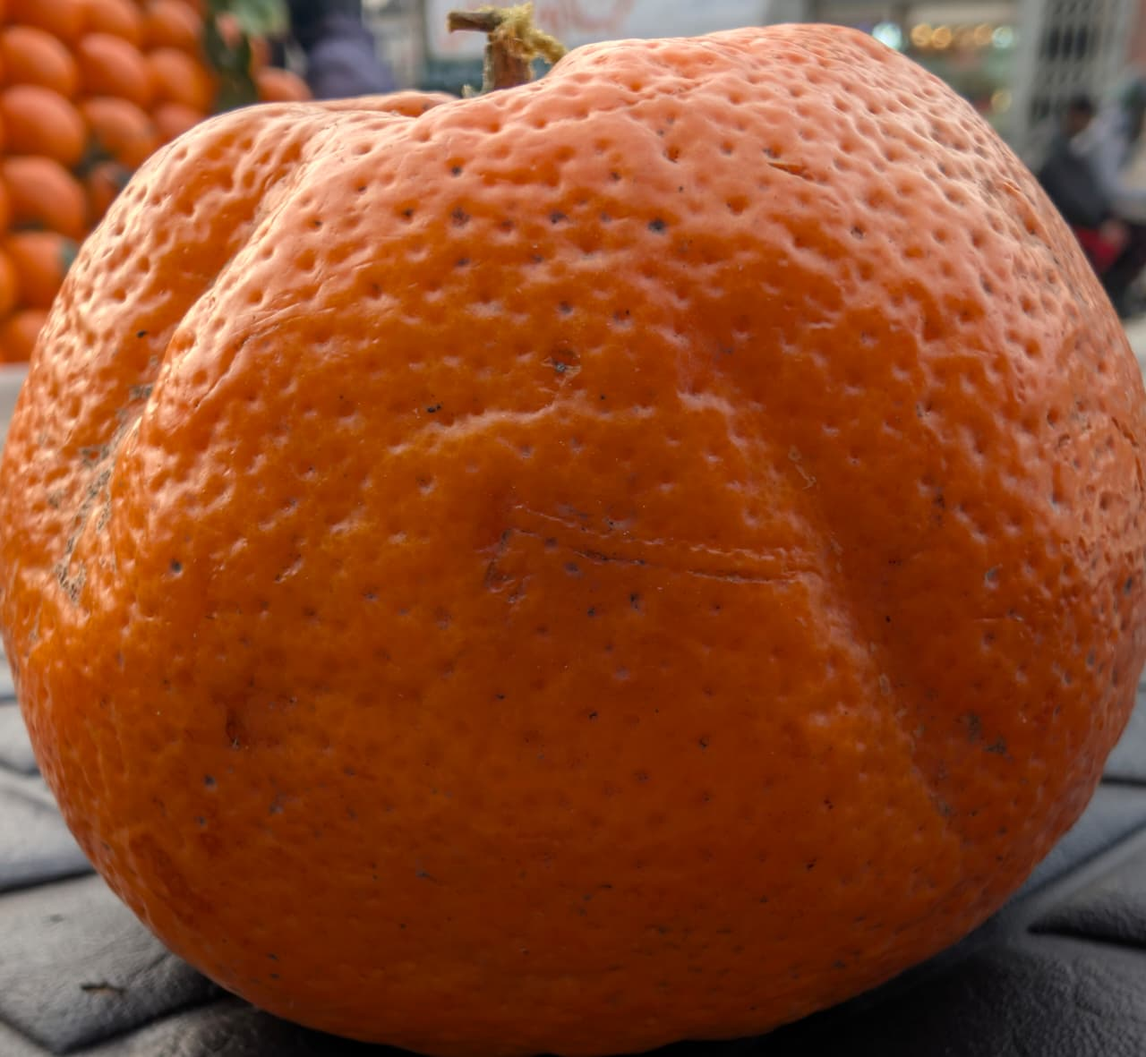orange: (150, 233, 1102, 983)
